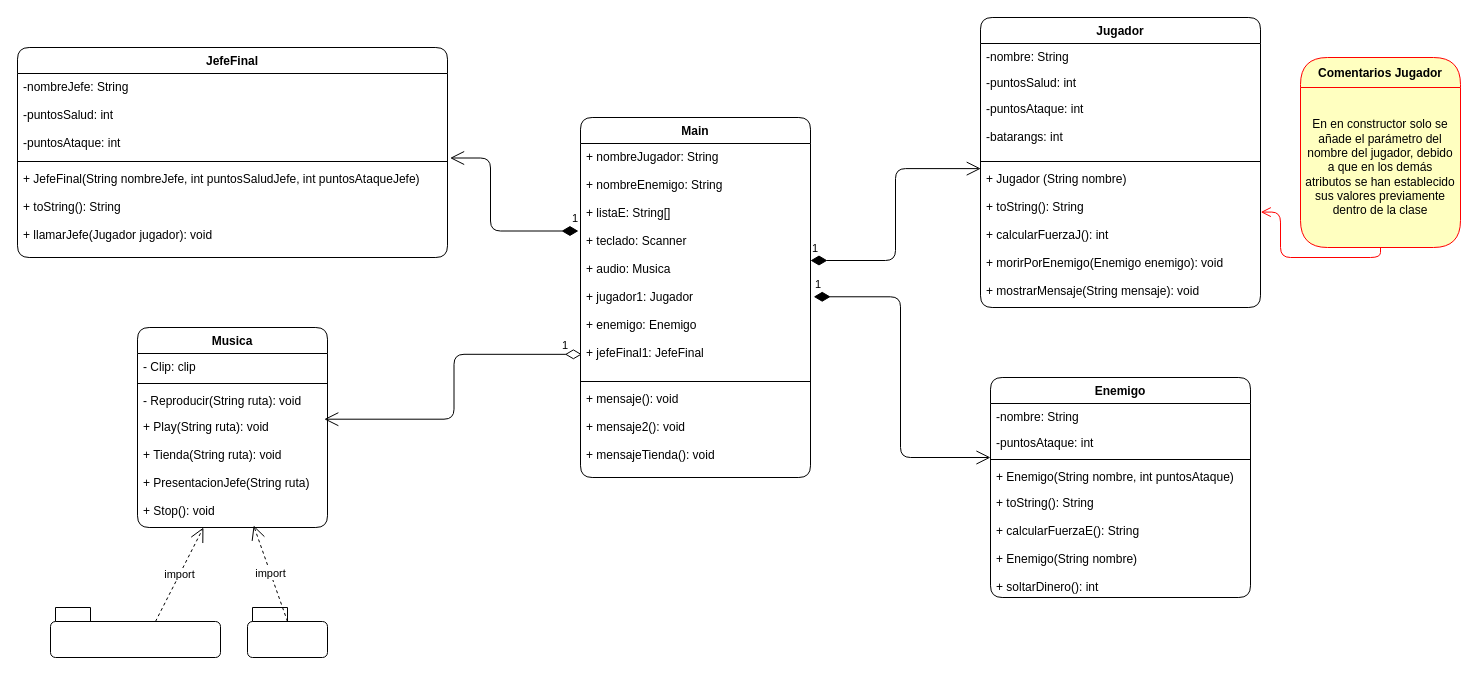
Some shapes in this 1478 by 675 pixel diagram are drawn without their labels. The shapes that lost their labels are listed below. From the top down, each one's centre as x and y in pixels, then its label:
pixel 135 632: javax.sound.sampled.*
pixel 287 632: java.io.file
